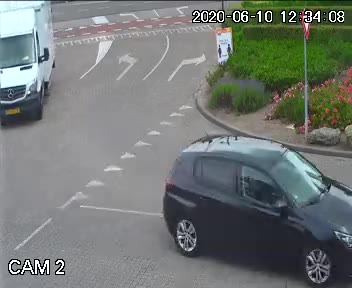car: (150, 124, 352, 288), (0, 0, 59, 142)
